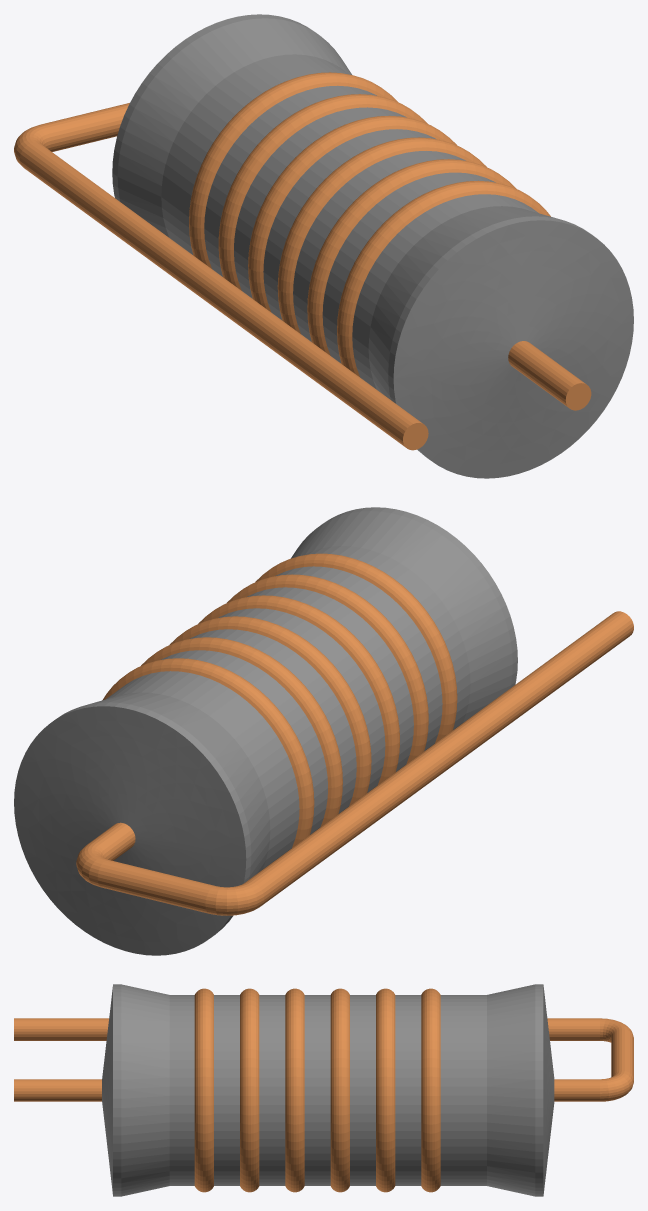
File: L_Axial_L16.0mm_D7.5mm_P5.08mm_Vertical_Fastron_XHBCC.glb
3 renders of one model, top to bottom at view 1: azimuth 30°, elevation 25°; view 2: azimuth 150°, elevation 25°; view 3: azimuth 270°, elevation 25°, orthographic. The views are drawn at different scales.
Parts seen in each view (by area): view 1: Shape_IndexedFaceSet.002, Shape_IndexedFaceSet.025, Shape_IndexedFaceSet.018, Shape_IndexedFaceSet.017, Shape_IndexedFaceSet.004, Shape_IndexedFaceSet.006, Shape_IndexedFaceSet.005, Shape_IndexedFaceSet.010, Shape_IndexedFaceSet.012, Shape_IndexedFaceSet.016, Shape_IndexedFaceSet.008, Shape_IndexedFaceSet.014 (+10 smaller); view 2: Shape_IndexedFaceSet.020, Shape_IndexedFaceSet.025, Shape_IndexedFaceSet.004, Shape_IndexedFaceSet.017, Shape_IndexedFaceSet.018, Shape_IndexedFaceSet.016, Shape_IndexedFaceSet.008, Shape_IndexedFaceSet.012, Shape_IndexedFaceSet.014, Shape_IndexedFaceSet.006, Shape_IndexedFaceSet.010, Shape_IndexedFaceSet.007 (+11 smaller); view 3: Shape_IndexedFaceSet.018, Shape_IndexedFaceSet.004, Shape_IndexedFaceSet.017, Shape_IndexedFaceSet.009, Shape_IndexedFaceSet.011, Shape_IndexedFaceSet.015, Shape_IndexedFaceSet.005, Shape_IndexedFaceSet.007, Shape_IndexedFaceSet.013, Shape_IndexedFaceSet.010, Shape_IndexedFaceSet.008, Shape_IndexedFaceSet.012 (+13 smaller).
Boxes of the visible parts, x1,y1,x2,y2 form: Shape_IndexedFaceSet.002: [393, 220, 633, 478]; Shape_IndexedFaceSet.025: [20, 142, 422, 447]; Shape_IndexedFaceSet.018: [117, 18, 351, 237]; Shape_IndexedFaceSet.017: [161, 54, 349, 254]; Shape_IndexedFaceSet.004: [368, 206, 559, 399]; Shape_IndexedFaceSet.006: [337, 180, 550, 376]; Shape_IndexedFaceSet.005: [352, 194, 538, 389]; Shape_IndexedFaceSet.010: [277, 137, 486, 333]; Shape_IndexedFaceSet.012: [248, 115, 457, 311]; Shape_IndexedFaceSet.016: [189, 72, 397, 268]; Shape_IndexedFaceSet.008: [307, 159, 516, 355]; Shape_IndexedFaceSet.014: [218, 94, 427, 290]; Shape_IndexedFaceSet.020: [14, 706, 246, 955]; Shape_IndexedFaceSet.025: [245, 611, 633, 905]; Shape_IndexedFaceSet.004: [291, 511, 512, 722]; Shape_IndexedFaceSet.017: [106, 671, 299, 868]; Shape_IndexedFaceSet.018: [88, 692, 270, 879]; Shape_IndexedFaceSet.016: [102, 658, 314, 847]; Shape_IndexedFaceSet.008: [227, 574, 428, 764]; Shape_IndexedFaceSet.012: [169, 616, 371, 806]; Shape_IndexedFaceSet.014: [141, 637, 342, 827]; Shape_IndexedFaceSet.006: [255, 553, 457, 743]; Shape_IndexedFaceSet.010: [198, 595, 399, 784]; Shape_IndexedFaceSet.007: [275, 566, 442, 750]; Shape_IndexedFaceSet.018: [487, 984, 535, 1196]; Shape_IndexedFaceSet.004: [121, 984, 169, 1196]; Shape_IndexedFaceSet.017: [440, 995, 486, 1185]; Shape_IndexedFaceSet.009: [259, 995, 285, 1185]; Shape_IndexedFaceSet.011: [304, 995, 330, 1185]; Shape_IndexedFaceSet.015: [395, 995, 421, 1185]; Shape_IndexedFaceSet.005: [169, 995, 194, 1185]; Shape_IndexedFaceSet.007: [214, 995, 239, 1185]; Shape_IndexedFaceSet.013: [350, 995, 375, 1185]; Shape_IndexedFaceSet.010: [285, 988, 304, 1192]; Shape_IndexedFaceSet.008: [240, 988, 259, 1192]; Shape_IndexedFaceSet.012: [330, 988, 349, 1192].
Size of the model in its own units: 3.63 by 2.95 by 8.62.
